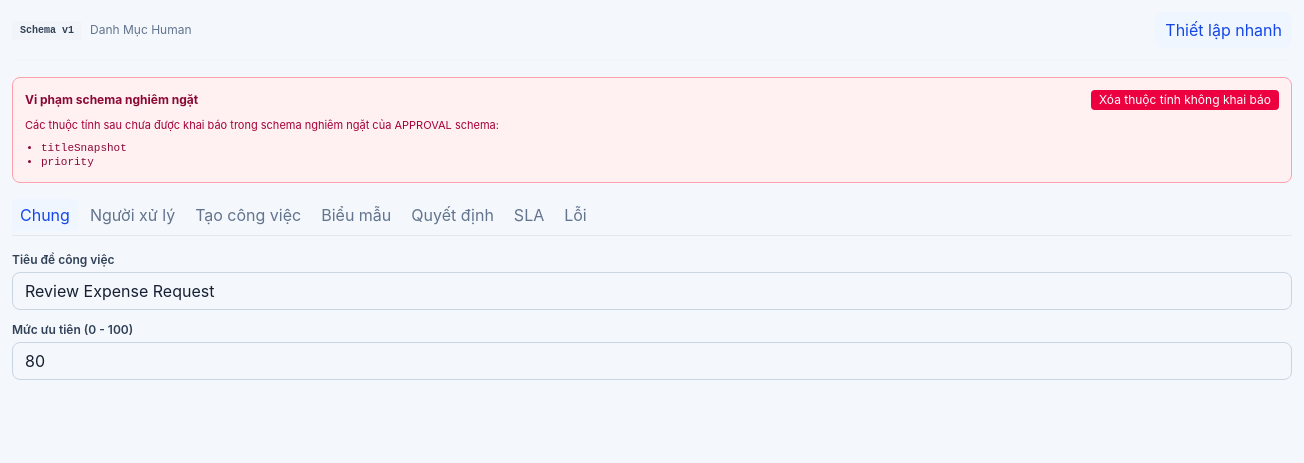
DynamicNodeProperties Component › renders schema version and approval modular tabs
Expected: the text with test id "config-schema-version-badge" reads "Schema v1", [12,20,82,40]
Expected: the button with test id "approval-tab-general" is shown, [12,199,78,231]
# Switch to Form tab
Click the button with test id "approval-tab-form" at (356, 215), box [313,199,399,231]
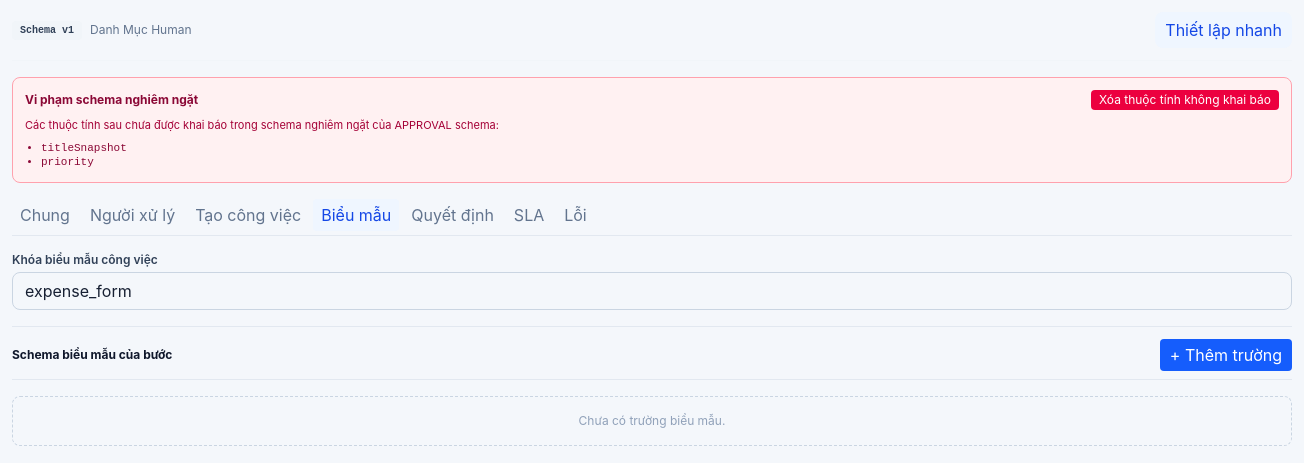
Now the field with test id "input-formKey" holds "expense_form", box [12,272,1292,310]
# Switch to Decision tab
Click the button with test id "approval-tab-decision" at (453, 215), box [403,199,502,231]
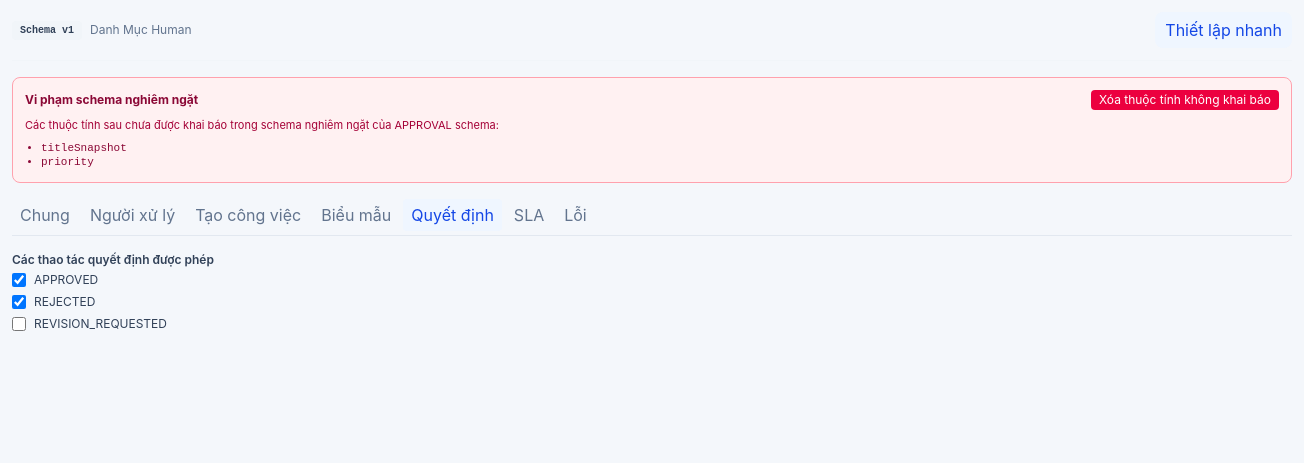
Now the element with test id "allowed-actions-group" is shown, box [12,272,167,331]
